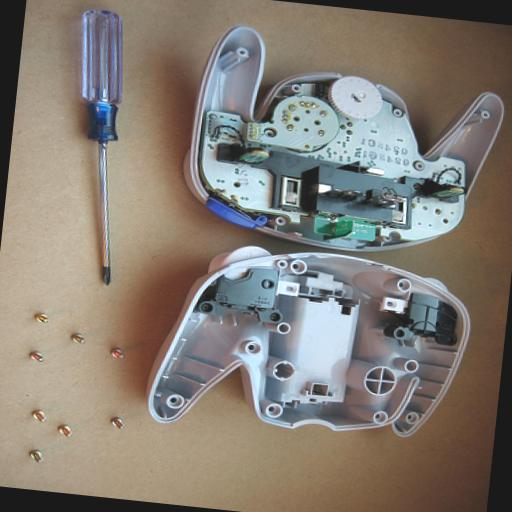screwdriver: (52, 8, 140, 286)
